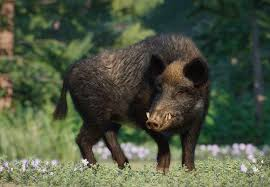boar: (54, 34, 212, 172)
